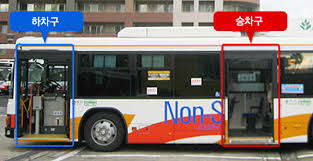out: (207, 31, 311, 150)
